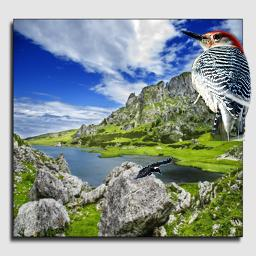Crow: (133, 156, 173, 179)
Woodpecker: (176, 24, 255, 141)
